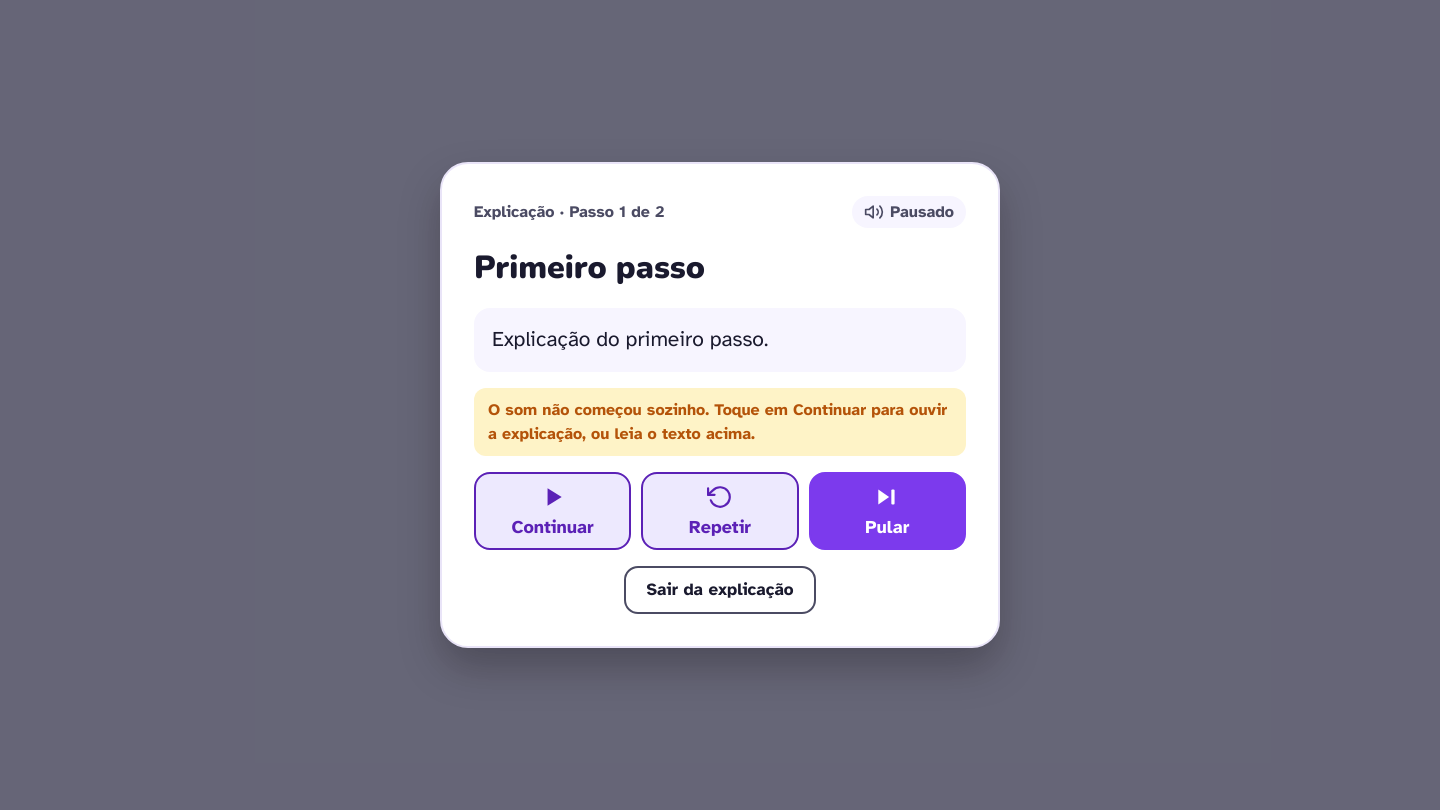
Componente TourAudio (US13) › falhas da fala (#99) › se o navegador não deixar falar sem toque, avisa e pede Continuar
Expected: the text "Toque em Continuar" is shown, [488,400,947,444]
Click the button "Continuar" at x=553, y=511, box [474,472,631,550]
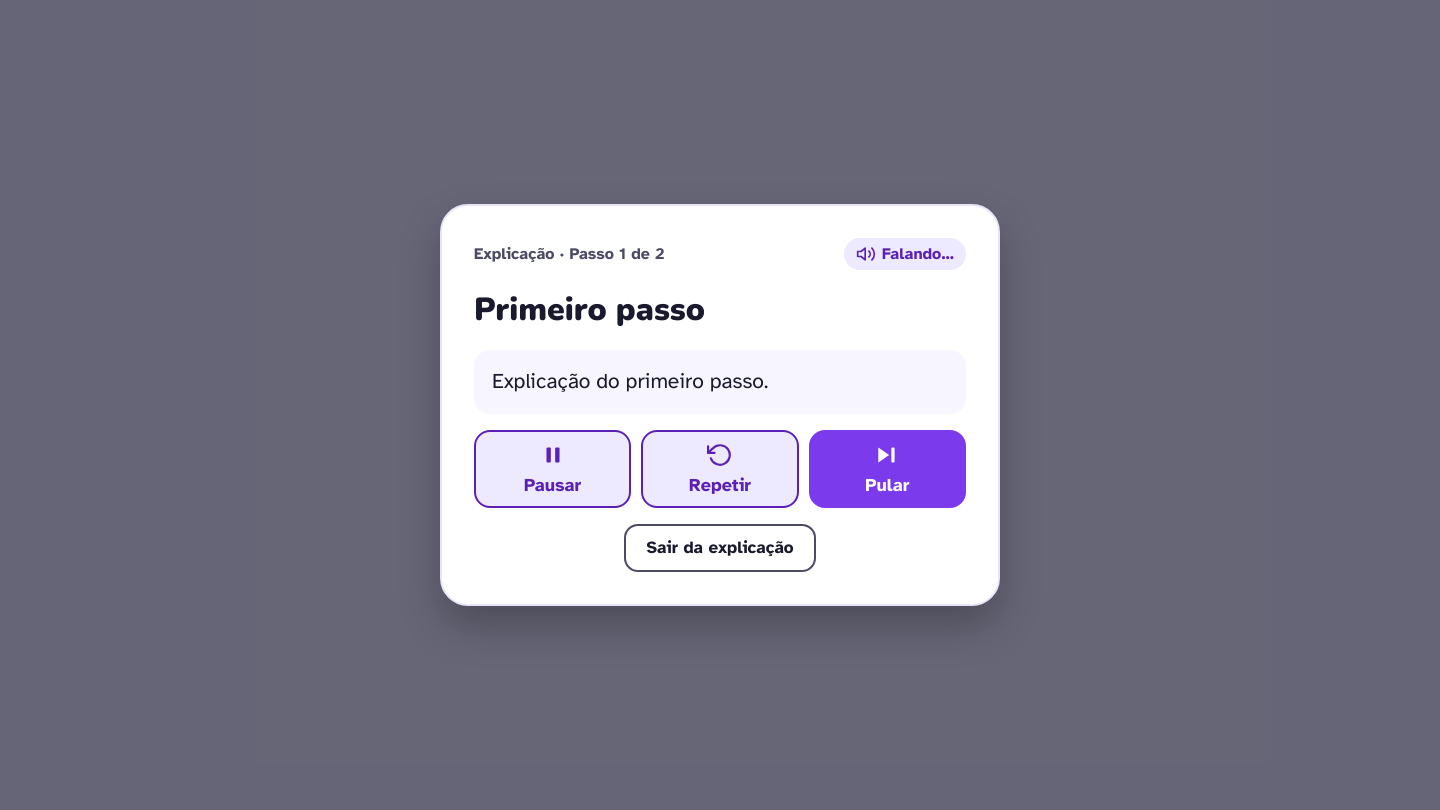
Expected: the text "Explicação do primeiro passo." is shown, [474,350,966,414]
Result: the text "Toque em Continuar" is gone
